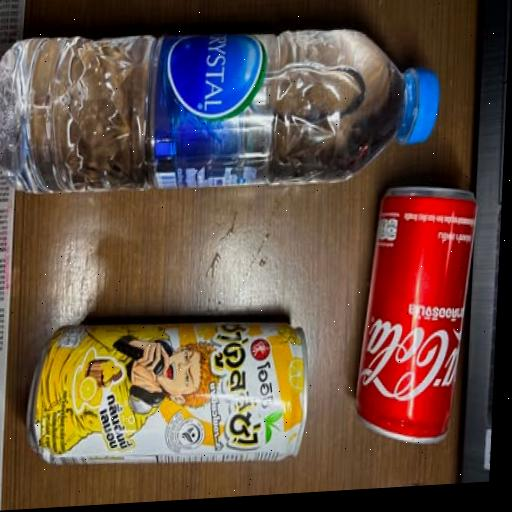ba: (0, 0, 466, 216)
bottle: (0, 268, 331, 499), (347, 165, 484, 465)
